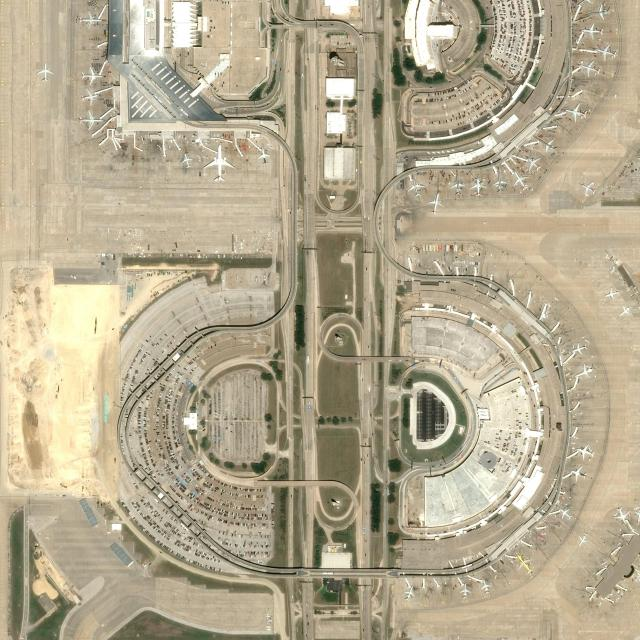aircraft: (202, 142, 234, 182), (76, 110, 102, 130), (595, 42, 617, 62), (564, 102, 586, 122), (80, 65, 104, 83), (78, 10, 102, 28), (516, 554, 534, 575), (582, 23, 604, 40), (426, 192, 444, 212), (578, 60, 600, 76), (512, 172, 530, 191), (406, 179, 424, 198), (591, 3, 612, 19), (580, 180, 598, 198), (576, 444, 596, 460), (522, 156, 543, 171), (471, 176, 486, 197), (80, 88, 98, 105), (539, 137, 558, 153), (576, 364, 594, 380), (492, 174, 508, 192), (36, 63, 52, 81), (570, 465, 587, 481), (178, 153, 194, 170), (614, 506, 630, 522), (450, 179, 466, 195), (257, 148, 273, 164), (557, 506, 573, 520), (604, 286, 620, 300), (572, 342, 587, 356), (617, 305, 633, 317), (577, 531, 588, 548), (404, 586, 416, 601), (480, 578, 491, 594), (459, 584, 470, 598)
